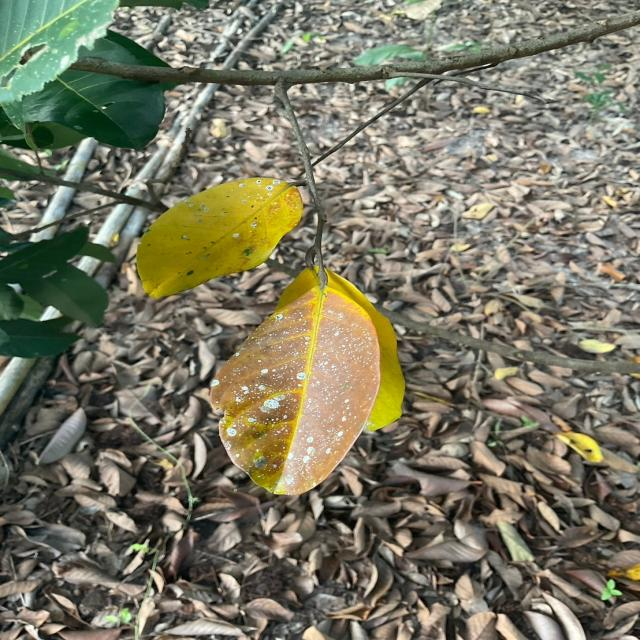Algal Leaf Spot: (230, 293, 401, 482)
